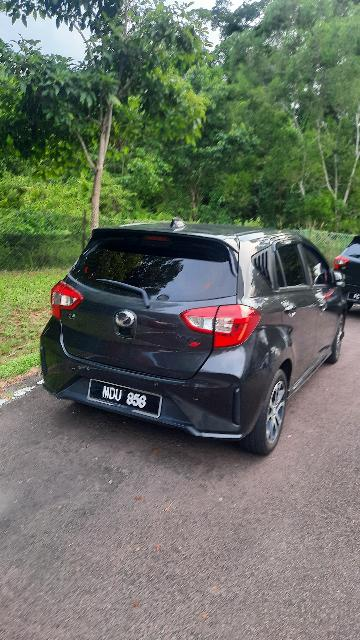License_Plate: (80, 373, 167, 426)
car: (37, 208, 350, 460)
